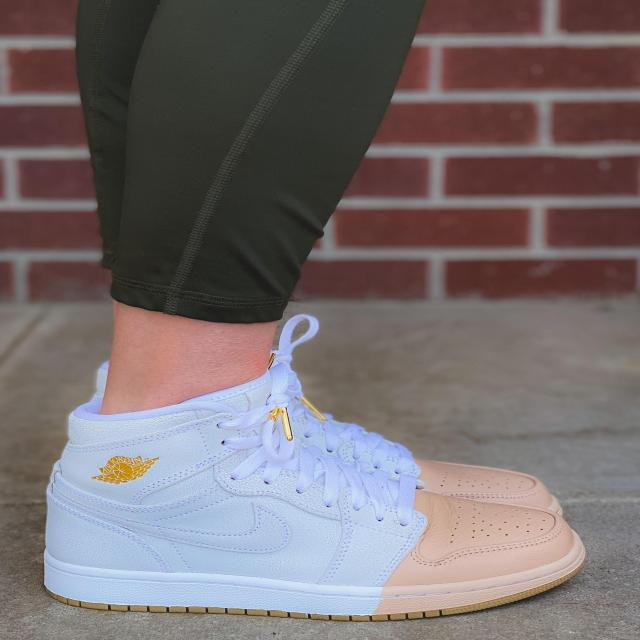shoes: (6, 393, 614, 620)
